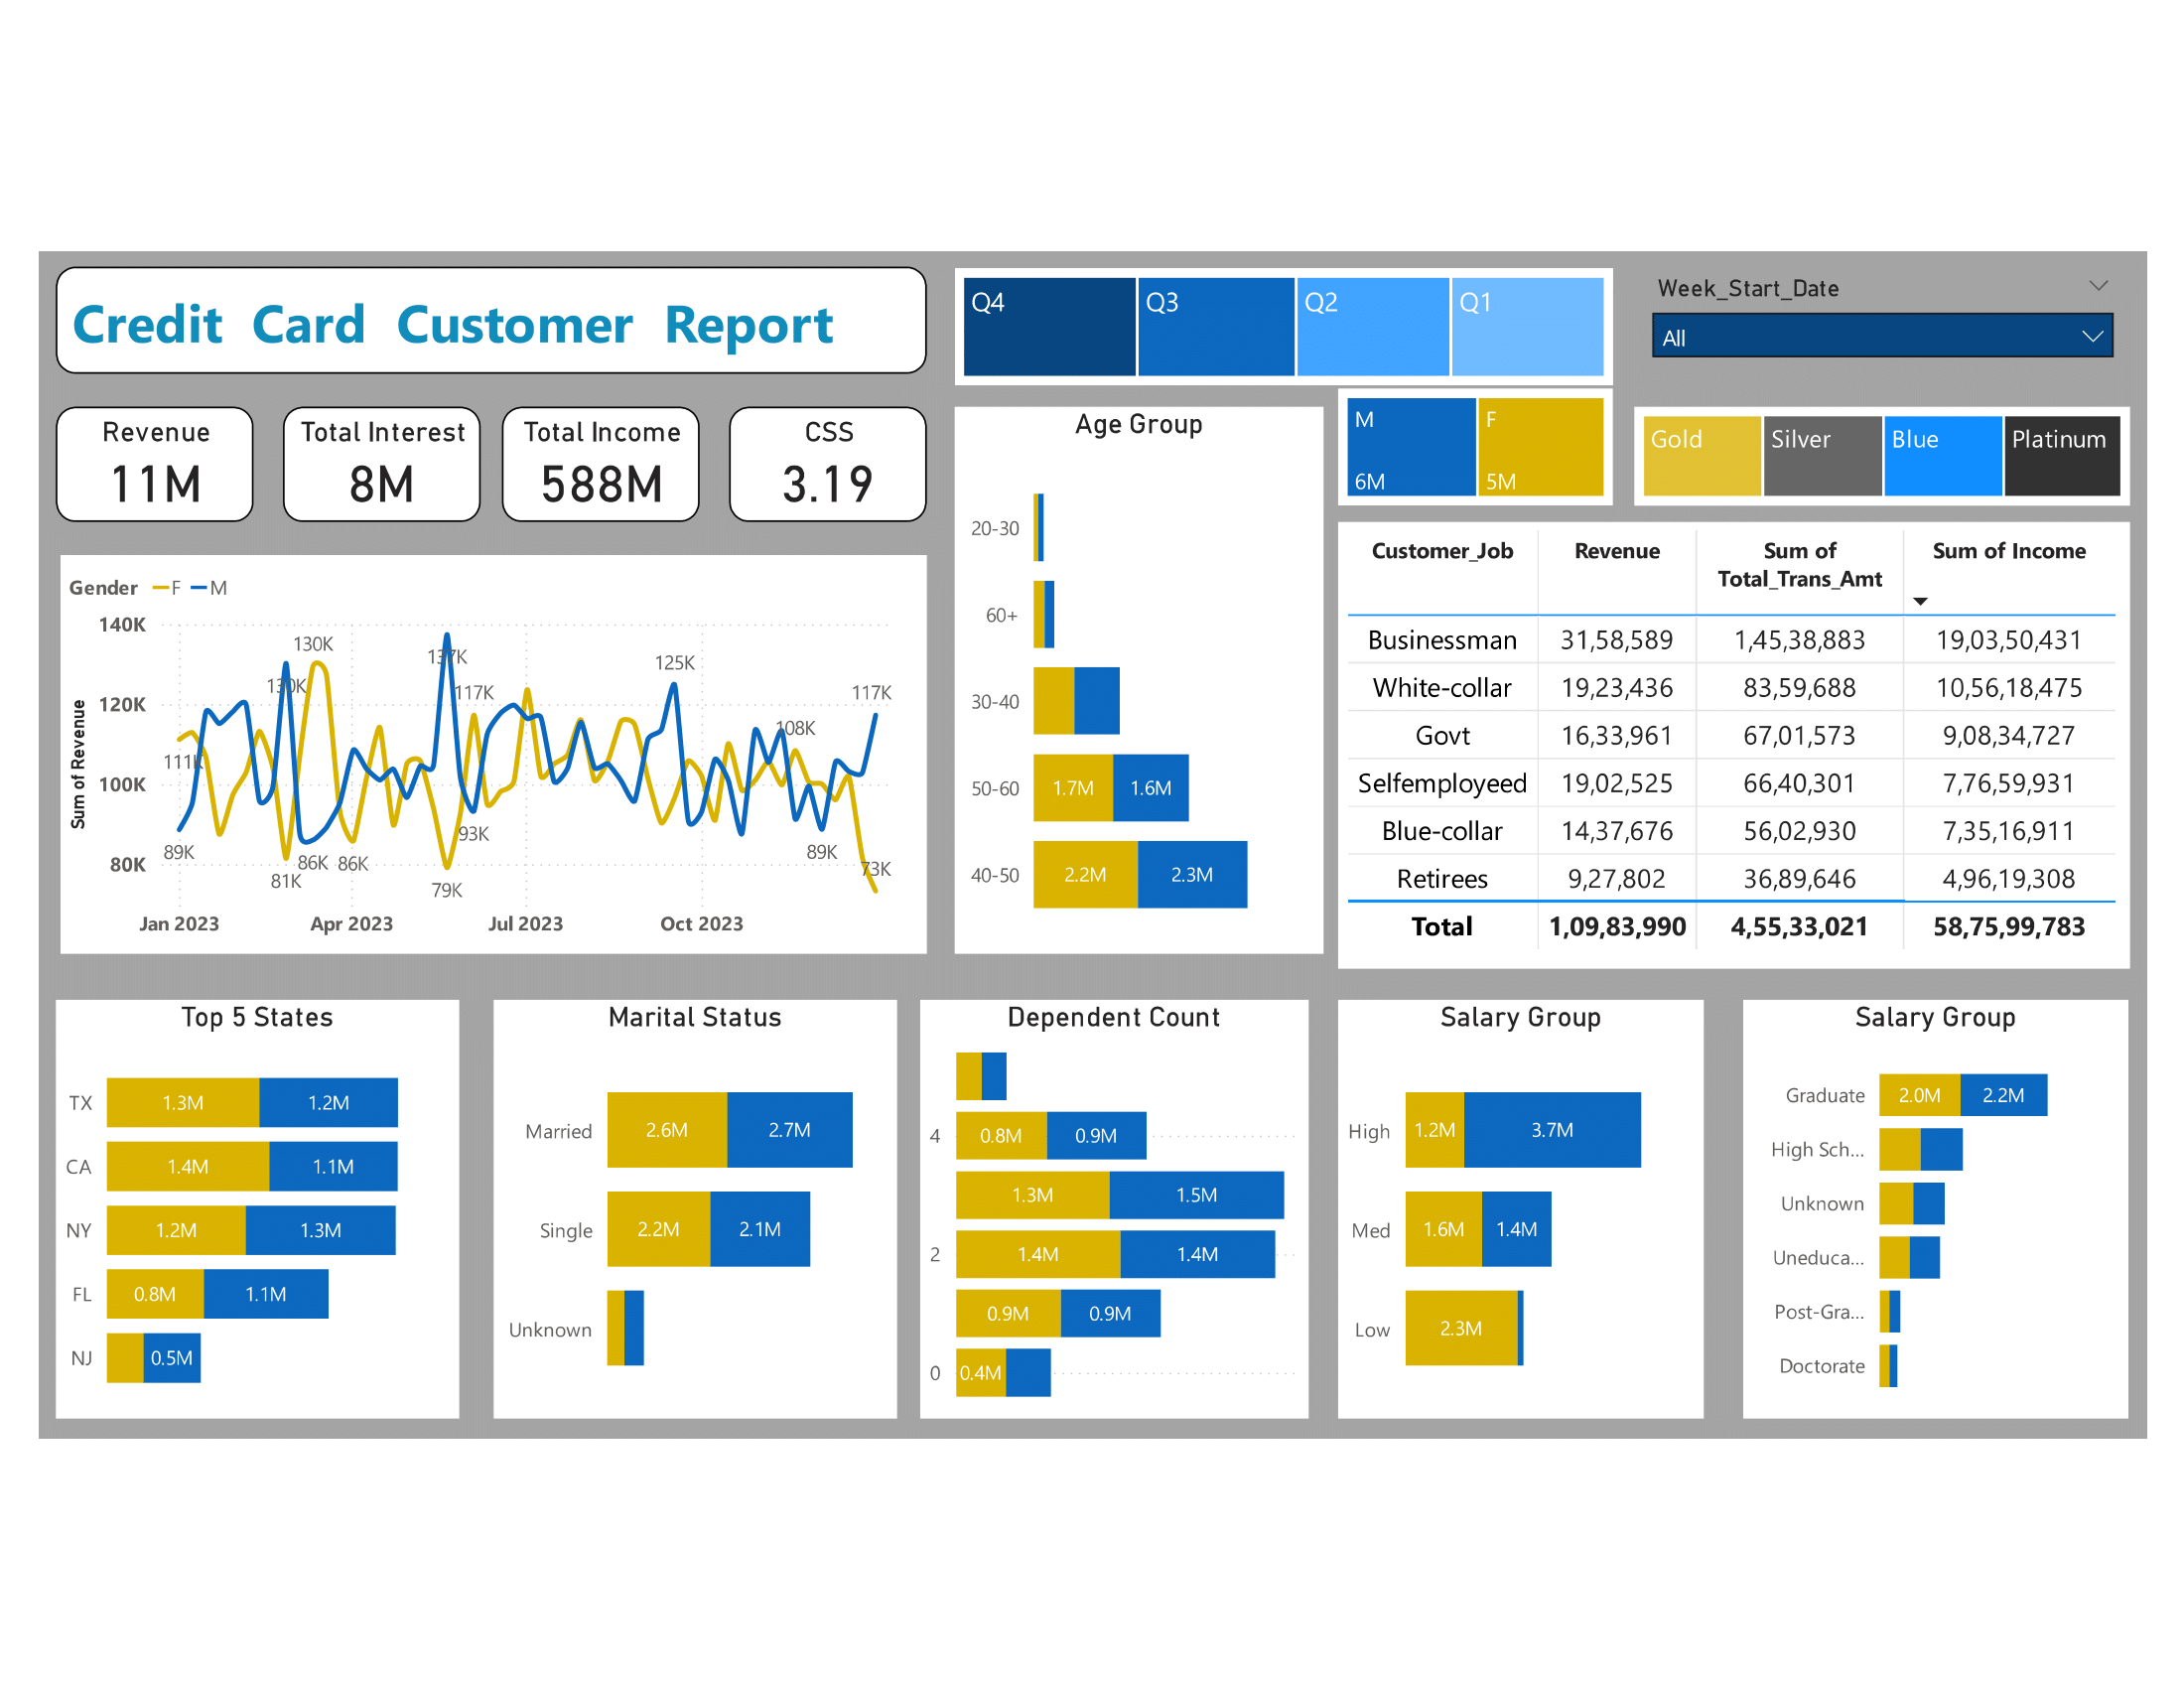

What the dashboard file says about the page in this screenshot:
{"tool":"powerbi","page":{"name":"CC_Customer","canvas":[1280,720],"ordinal":2},"visuals":[{"type":"textbox","box":[10,8.8,528.8,65],"z":0},{"type":"barChart","title":"Top 5 States","fields":{"Y":["Sum(ccdb cc_detail.Revenue)"],"Category":["ccdb cust_detail.state_cd"],"Series":["ccdb cust_detail.Gender"]},"box":[10,453.8,245,253.8],"z":1000},{"type":"tableEx","fields":{"Values":["ccdb cust_detail.Customer_Job","Sum(ccdb cc_detail.Revenue)","Sum(ccdb cc_detail.Total_Trans_Amt)","Sum(ccdb cust_detail.Income)"]},"box":[788.8,163.8,481.2,271.2],"z":2000},{"type":"card","title":"Revenue","fields":{"Values":["Sum(ccdb cc_detail.Revenue)"]},"box":[10,93.8,120,70],"z":3000},{"type":"card","title":"Total Interest","fields":{"Values":["Sum(ccdb cc_detail.Interest_Earned)"]},"box":[147.5,93.8,120,70],"z":4000},{"type":"card","title":"Total Income","fields":{"Values":["Sum(ccdb cust_detail.Income)"]},"box":[281.2,93.8,120,70],"z":5000},{"type":"card","title":"CSS","fields":{"Values":["Avg(ccdb cust_detail.Cust_Satisfaction_Score)"]},"box":[418.8,93.8,120,70],"z":6000},{"type":"slicer","fields":{"Values":["ccdb cc_detail.Week_Start_Date"]},"box":[970,8.8,300,72.5],"z":7000},{"type":"treemap","fields":{"Group":["ccdb cc_detail.Qtr"],"Values":["Avg(ccdb cc_detail.Client_Num)"]},"box":[556.2,10,400,71.2],"z":8000},{"type":"treemap","fields":{"Group":["ccdb cc_detail.Card_Category"],"Values":["Avg(ccdb cc_detail.Client_Num)"]},"box":[968.8,93.8,301.2,60],"z":9000},{"type":"lineChart","title":" Revenue by Week","fields":{"Y":["Sum(ccdb cc_detail.Revenue)"],"Series":["ccdb cust_detail.Gender"],"Category":["ccdb cc_detail.Week_Start_Date.Variation.Date Hierarchy.Year","ccdb cc_detail.Week_Start_Date.Variation.Date Hierarchy.Month","ccdb cc_detail.Week_Start_Date.Variation.Date Hierarchy.Day"]},"box":[12.5,183.8,526.2,242.5],"z":10000},{"type":"barChart","title":"Marital Status","fields":{"Y":["Sum(ccdb cc_detail.Revenue)"],"Category":["ccdb cust_detail.Marital_Status"],"Series":["ccdb cust_detail.Gender"]},"box":[276.2,453.8,245,253.8],"z":11000},{"type":"barChart","title":"Dependent Count","fields":{"Y":["Sum(ccdb cc_detail.Revenue)"],"Series":["ccdb cust_detail.Gender"],"Category":["ccdb cust_detail.Dependent_Count"]},"box":[535,453.8,236.2,253.8],"z":12000},{"type":"barChart","title":"Salary Group","fields":{"Y":["Sum(ccdb cc_detail.Revenue)"],"Category":["ccdb cust_detail.IncomeGroup"],"Series":["ccdb cust_detail.Gender"]},"box":[788.8,453.8,222.5,253.8],"z":13000},{"type":"barChart","title":" Age Group","fields":{"Y":["Sum(ccdb cc_detail.Revenue)"],"Series":["ccdb cust_detail.Gender"],"Category":["ccdb cust_detail.AgeGroup"]},"box":[556.2,93.8,223.8,332.5],"z":14000},{"type":"treemap","fields":{"Group":["ccdb cust_detail.Gender"],"Values":["Sum(ccdb cc_detail.Revenue)"]},"box":[788.8,82.5,167.5,71.2],"z":15000},{"type":"barChart","title":"Salary Group","fields":{"Y":["Sum(ccdb cc_detail.Revenue)"],"Category":["ccdb cust_detail.Education_Level"],"Series":["ccdb cust_detail.Gender"]},"box":[1035,453.8,233.8,253.8],"z":16000}]}

Visuals, with their boxes in screenshot pixels (x1, y1, x2, y2):
textbox: 28/254/918/363
"Top 5 States" barChart: 28/1003/441/1430
tableEx - ccdb cust_detail.Customer_Job x Sum(ccdb cc_detail.Revenue): 1338/514/2148/971
"Revenue" card: 28/397/230/514
"Total Interest" card: 259/397/462/514
"Total Income" card: 484/397/686/514
"CSS" card: 716/397/918/514
slicer - ccdb cc_detail.Week_Start_Date: 1644/254/2148/375
treemap - ccdb cc_detail.Qtr x Avg(ccdb cc_detail.Client_Num): 947/256/1620/375
treemap - ccdb cc_detail.Card_Category x Avg(ccdb cc_detail.Client_Num): 1642/397/2148/497
" Revenue by Week" lineChart: 33/548/918/956
"Marital Status" barChart: 477/1003/888/1430
"Dependent Count" barChart: 911/1003/1309/1430
"Salary Group" barChart: 1338/1003/1713/1430
" Age Group" barChart: 947/397/1324/956
treemap - ccdb cust_detail.Gender x Sum(ccdb cc_detail.Revenue): 1338/377/1620/497
"Salary Group" barChart: 1753/1003/2146/1430
